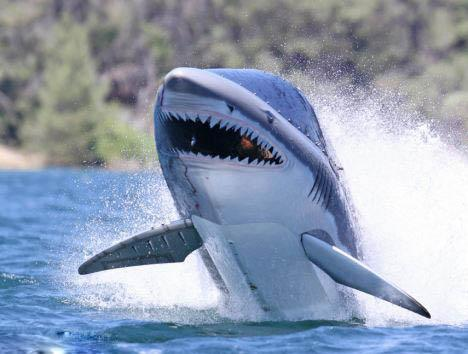fish: (76, 57, 434, 319)
